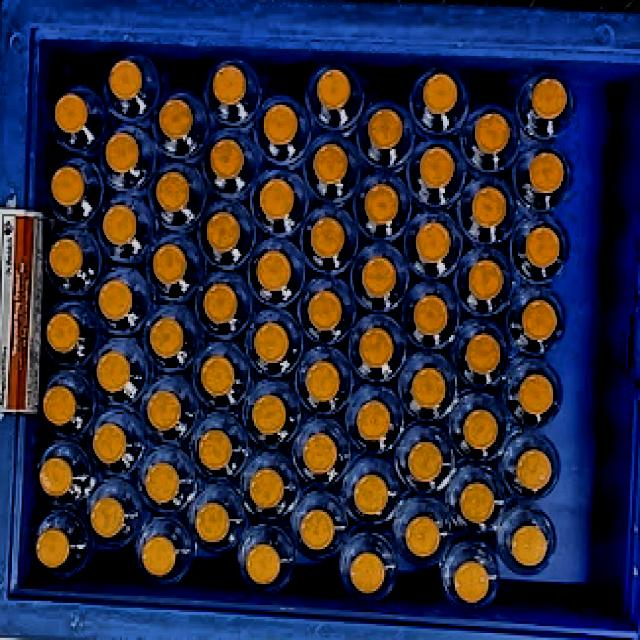vial: (518, 372, 555, 420), (410, 366, 448, 411), (510, 524, 549, 567), (352, 473, 390, 517), (452, 560, 490, 604), (299, 508, 336, 552), (521, 298, 558, 342), (462, 408, 499, 452), (515, 448, 552, 492), (252, 321, 290, 363), (141, 535, 178, 578), (202, 282, 239, 325), (251, 393, 288, 436), (255, 250, 292, 293), (262, 103, 299, 146), (422, 72, 459, 115), (531, 77, 568, 120), (419, 146, 456, 189), (471, 186, 508, 229), (412, 294, 449, 337), (205, 210, 241, 254), (200, 355, 236, 399), (305, 359, 341, 403), (350, 551, 386, 595), (529, 151, 565, 195), (525, 226, 561, 270), (415, 220, 451, 264), (405, 514, 441, 558), (211, 64, 248, 106), (312, 143, 349, 185), (474, 112, 511, 154), (158, 97, 194, 140), (98, 279, 134, 322), (45, 312, 81, 355), (42, 384, 78, 427), (144, 462, 180, 505), (152, 244, 188, 287), (209, 137, 245, 180), (195, 501, 231, 544), (249, 467, 285, 510), (259, 177, 295, 220), (302, 433, 338, 476), (356, 399, 392, 442), (364, 183, 400, 226), (368, 108, 404, 151), (465, 332, 501, 375), (408, 440, 444, 483), (96, 350, 131, 394), (245, 544, 282, 585), (468, 259, 505, 300), (108, 58, 144, 100), (155, 171, 191, 213), (92, 423, 128, 465), (35, 527, 71, 569), (459, 482, 495, 524), (50, 164, 85, 207), (39, 456, 74, 499), (90, 496, 125, 539), (316, 68, 351, 111), (359, 326, 394, 369), (102, 204, 138, 245), (146, 390, 182, 431), (54, 92, 89, 134), (105, 131, 140, 173), (310, 217, 345, 259), (361, 256, 396, 298), (198, 428, 232, 471), (49, 238, 84, 279), (308, 290, 342, 332), (150, 318, 185, 358)
